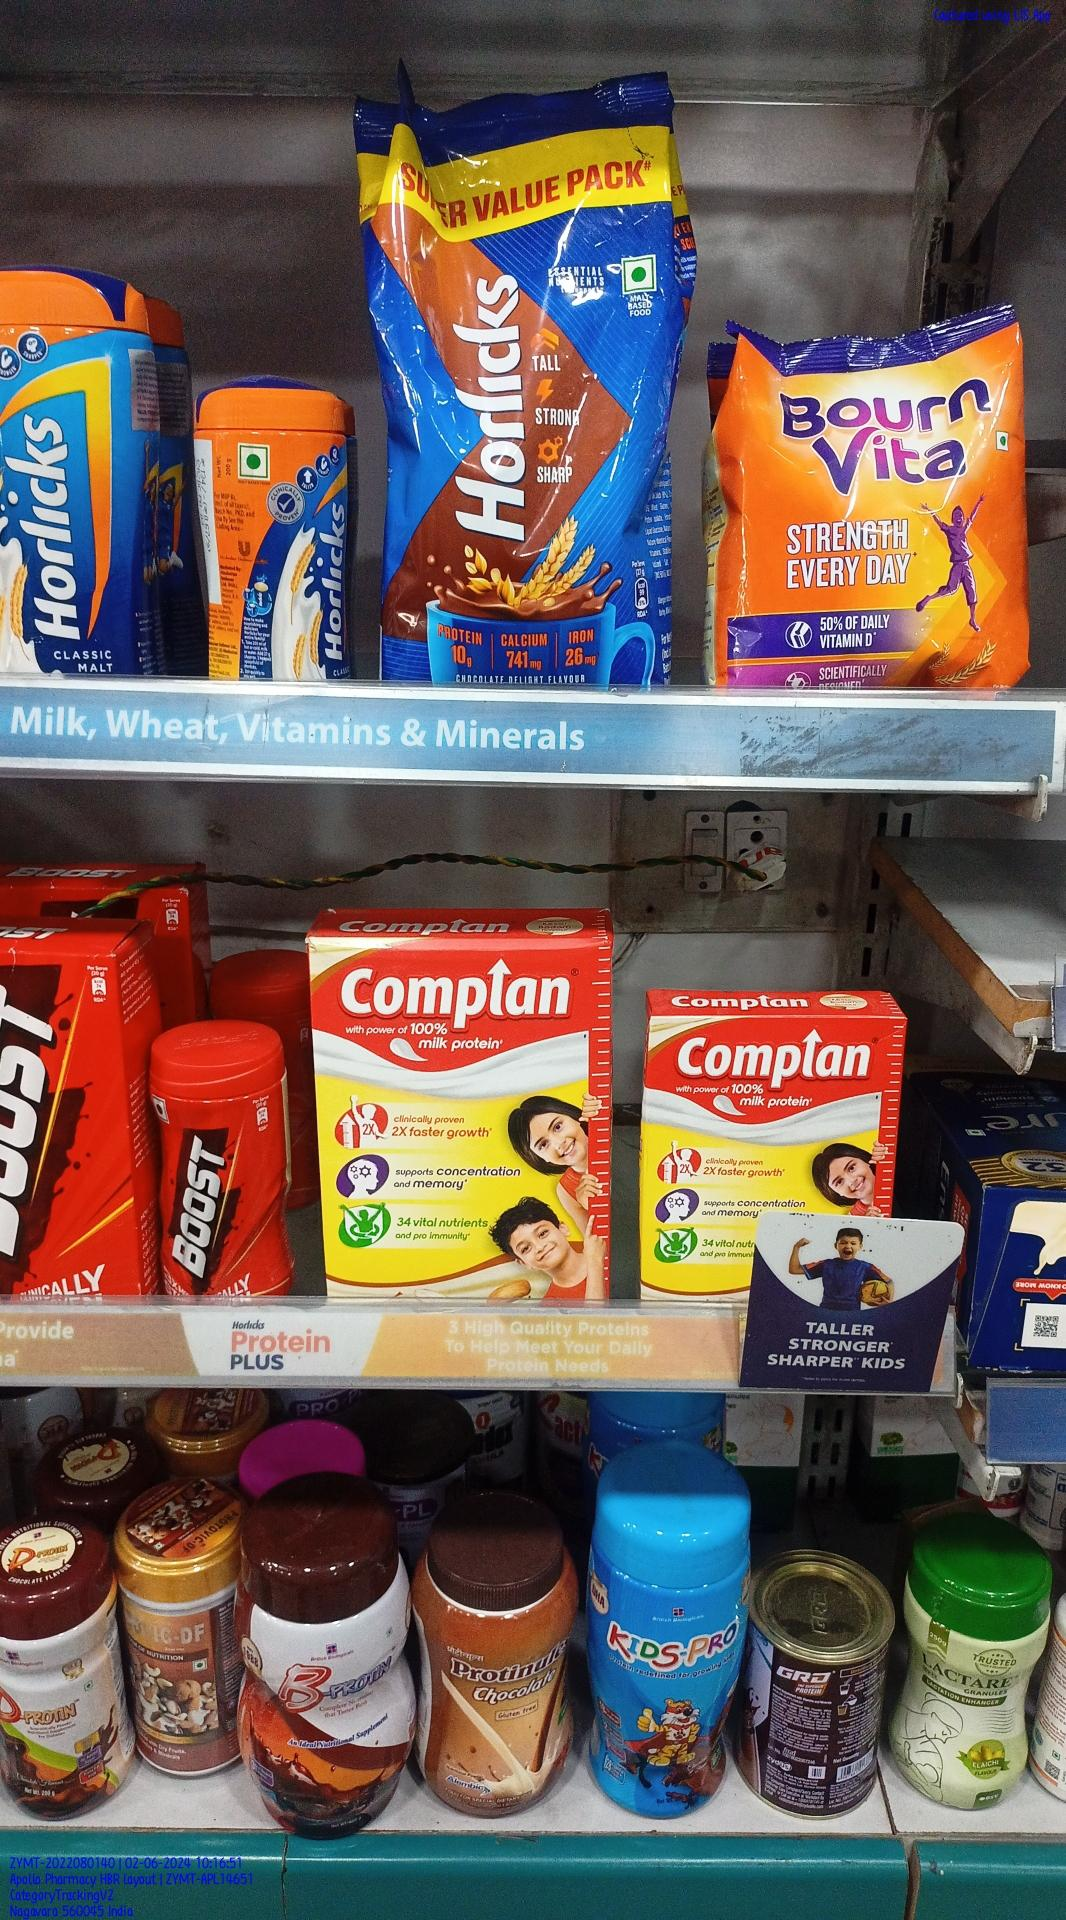HORLICK_CLASSIC_MALT_200_G_JAR: (198, 373, 351, 685)
HORLICK_CLASSIC_MALT_500_G_JAR: (5, 255, 158, 680)
